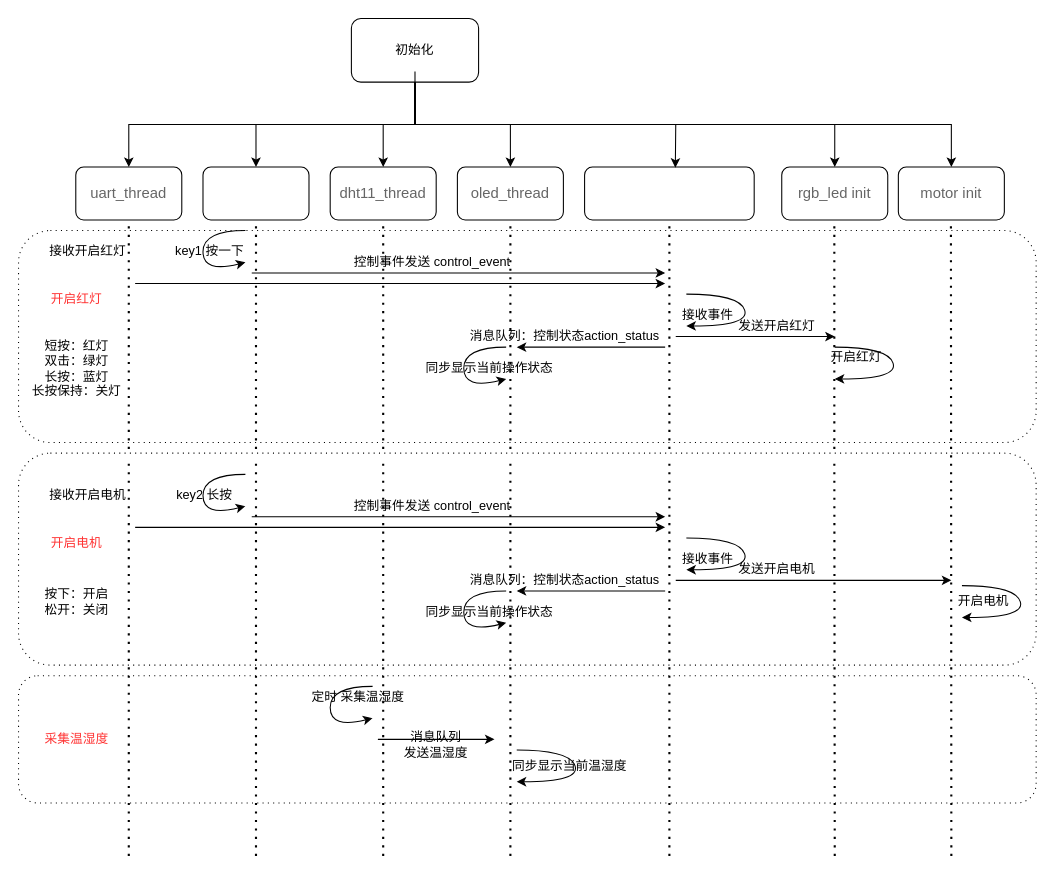
The diagram is 1055 pixels wide and 877 high, and some of its shapes have lost their labels. The centre of each missing label's shape, as x and y in pixels:
"button_thread" goes at point (255, 193).
"event_manager_thread" goes at point (669, 193).
